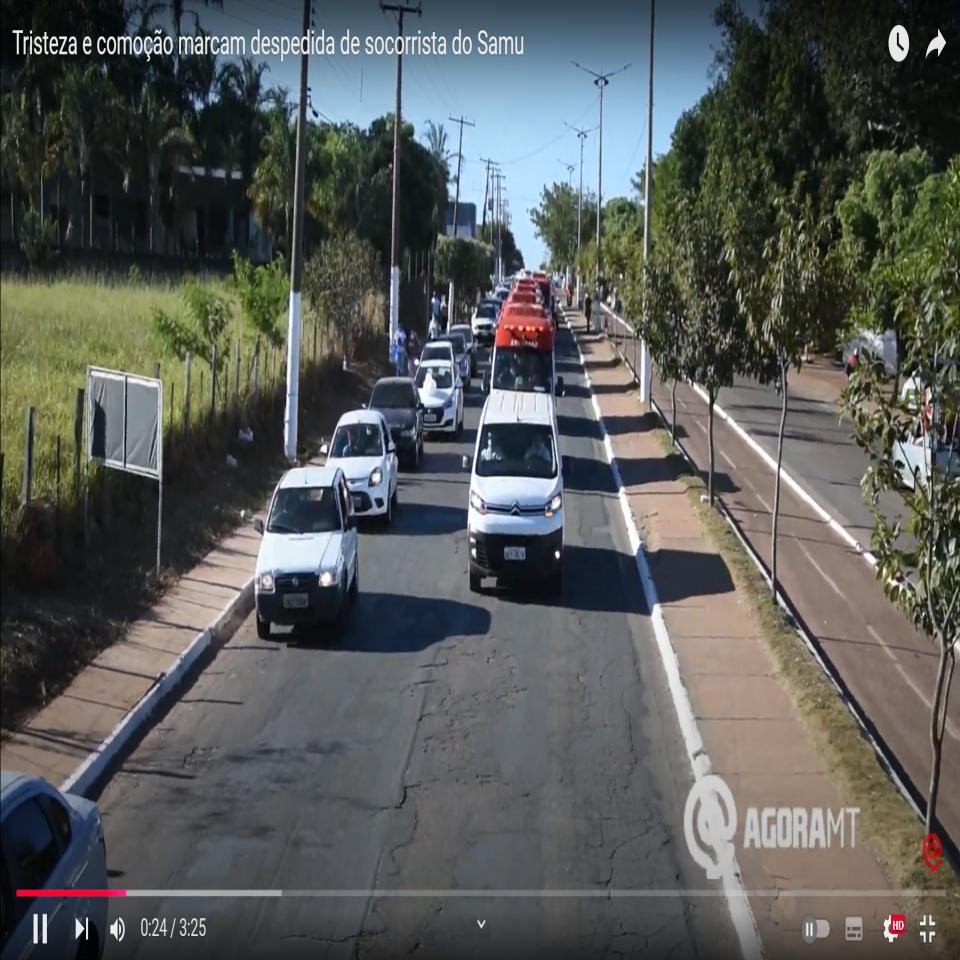bombeiro: (482, 303, 564, 398)
